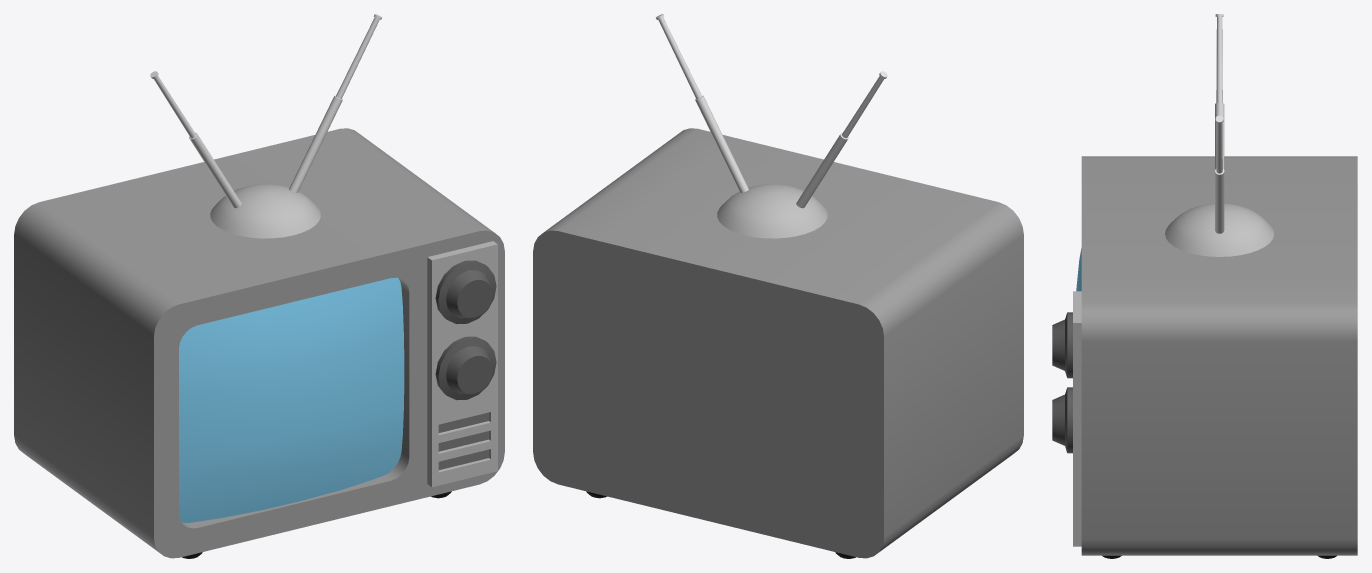
Rendered from television.gltf.
3 views of the same model, side by side, from view 1: azimuth 30°, elevation 25°; view 2: azimuth 150°, elevation 25°; view 3: azimuth 270°, elevation 25° (orthographic).
Visible parts, largest first — view 1: Cube.938; view 2: Cube.938; view 3: Cube.938.
Part boxes in pixels (<box>): Cube.938: <box>14,14,504,558</box>; Cube.938: <box>533,14,1023,558</box>; Cube.938: <box>1052,14,1357,558</box>.
Bounding box in the file's own units: 1.84 × 2.22 × 1.4.
Materials: 1 (1 with a texture image).
